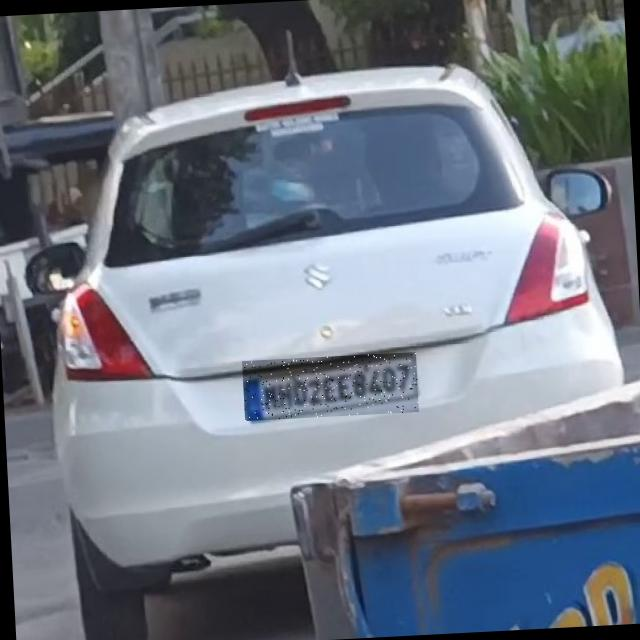Plate: (243, 353, 420, 422)
